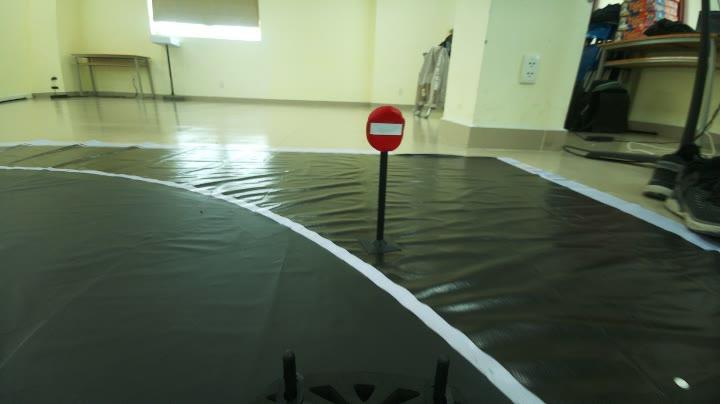no_entry: (358, 100, 413, 158)
